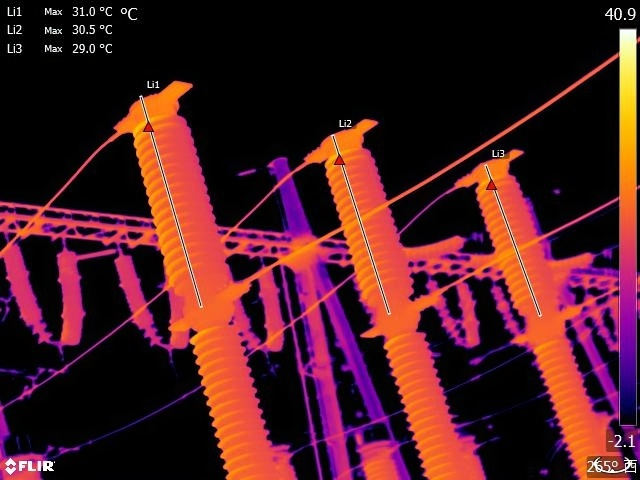circuit breaker: (119, 67, 287, 480), (310, 101, 492, 480), (470, 143, 621, 480)
insulator: (3, 238, 50, 342), (115, 248, 158, 342), (218, 256, 260, 347), (55, 238, 85, 351), (254, 263, 289, 355), (423, 278, 461, 344), (455, 281, 482, 351), (582, 288, 610, 351), (497, 285, 523, 348), (166, 284, 184, 362)
